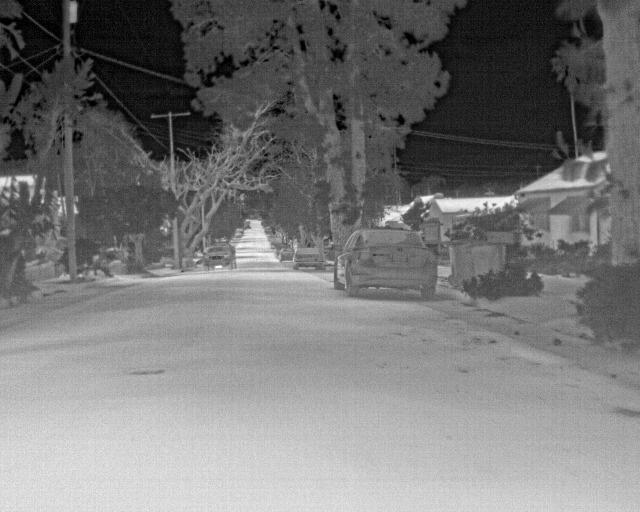car: (332, 225, 436, 298), (205, 240, 236, 270), (293, 248, 323, 271), (278, 246, 292, 262)
